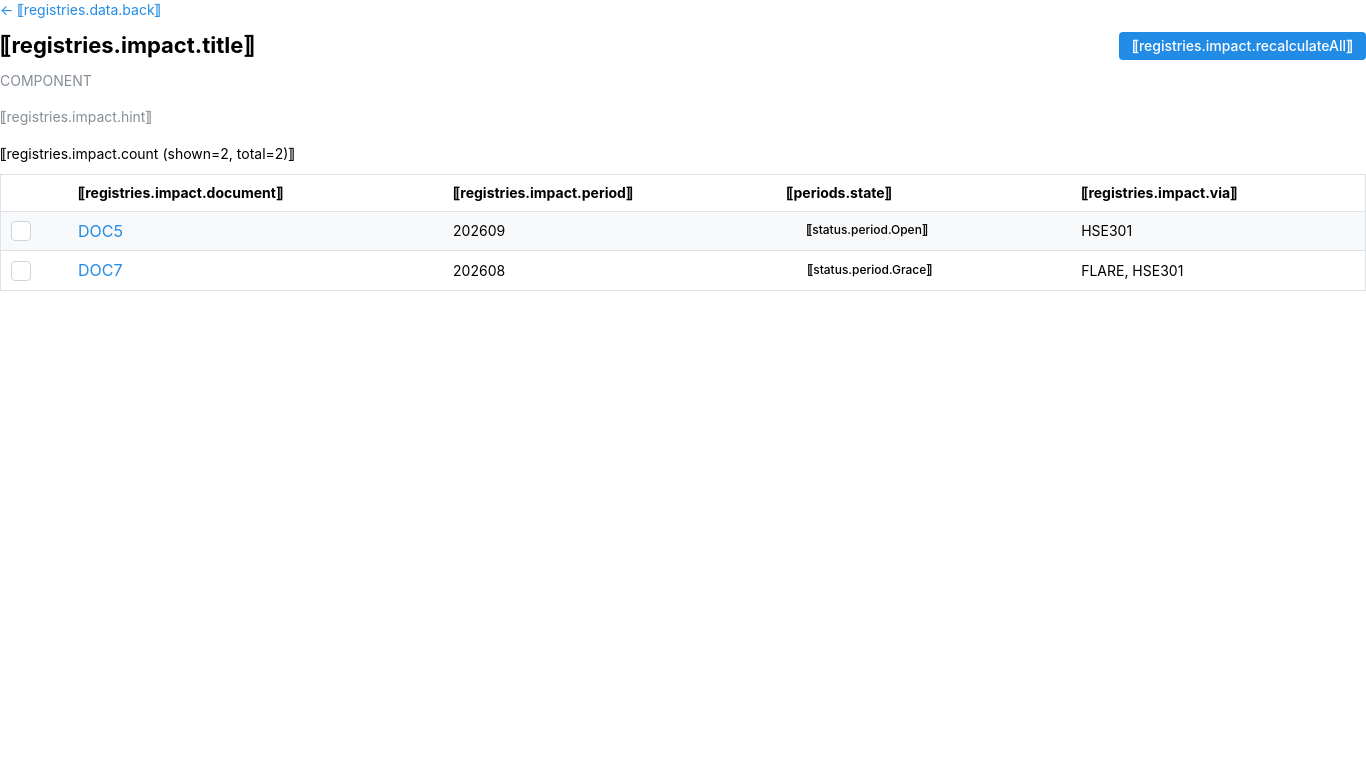
Scenario: RegistryImpactPage: зачеплені документи і їх перерахунок › підсумок розкладу показується тим самим рядком, що й у черзі задач
Check: the link "DOC5" is shown, box [78,221,123,241]
Click the button "⟦registries.impact.recalculateAll⟧". click: x=1242, y=46
box: [1119,32,1365,60]
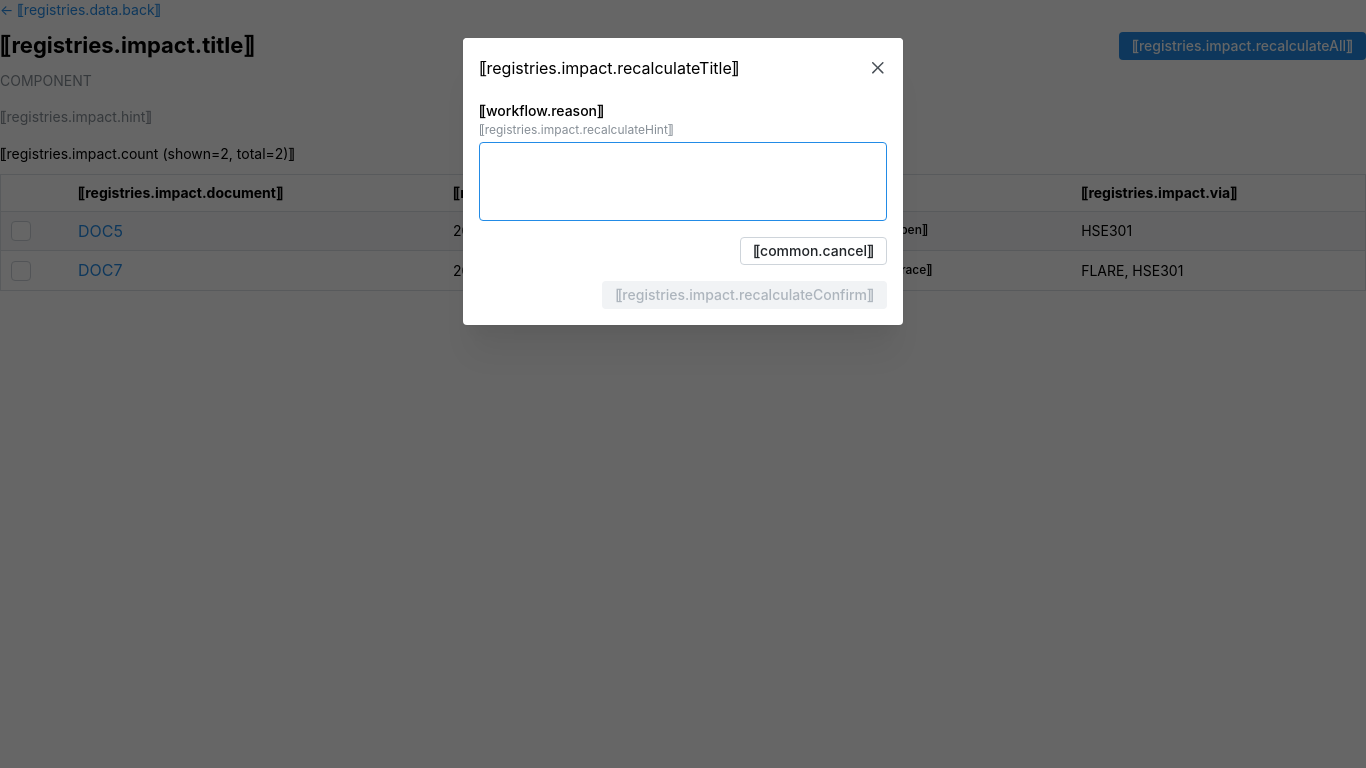
Type "причина" into the text box. click: x=683, y=182
box: [479,143,887,222]
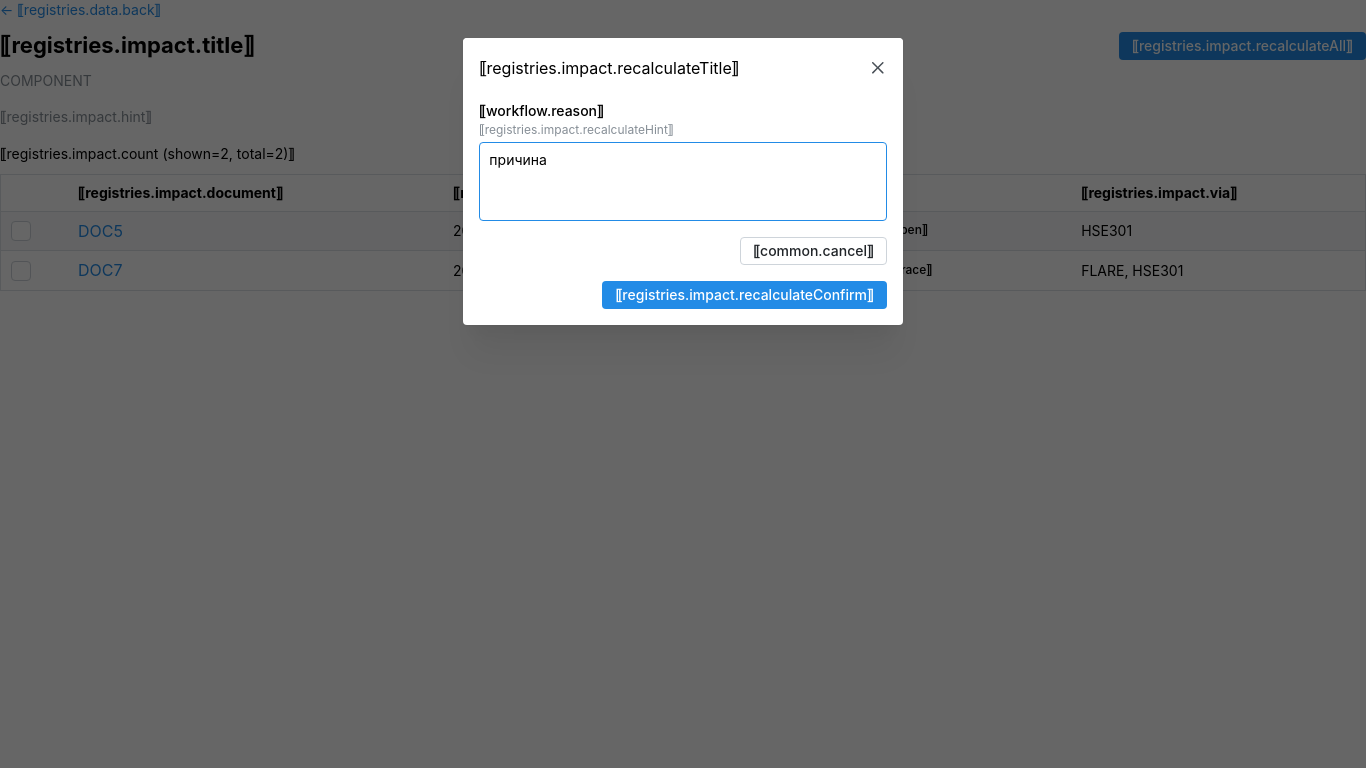
Click the button "⟦registries.impact.recalculateConfirm⟧". click: x=745, y=296
box: [602,282,887,310]
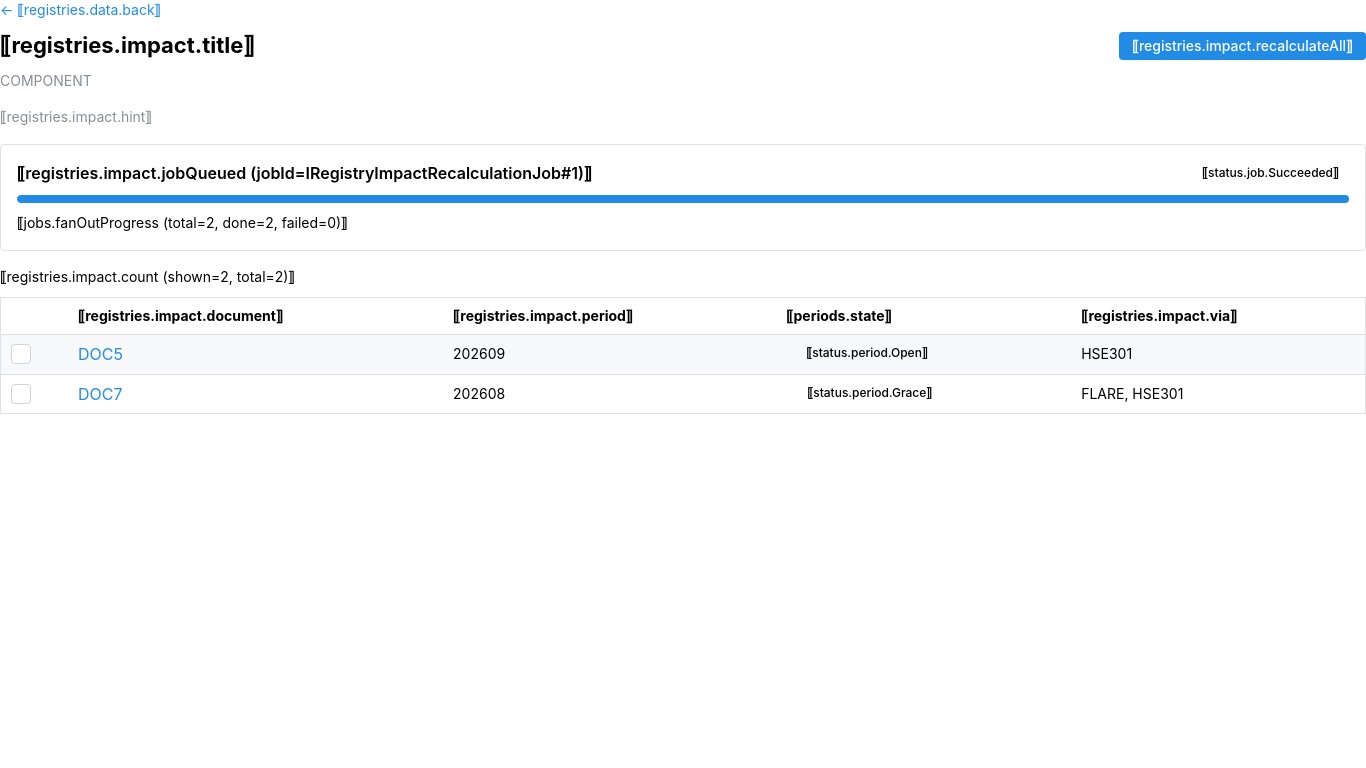
Check: the text "⟦jobs.fanOutProgress (total=2, done=2, failed=0)⟧" is shown, box [17,214,348,232]
